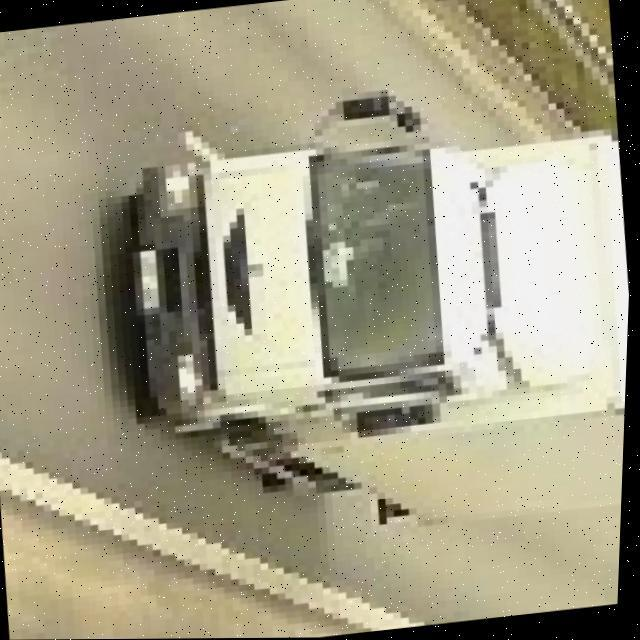truck: (88, 65, 638, 552)
